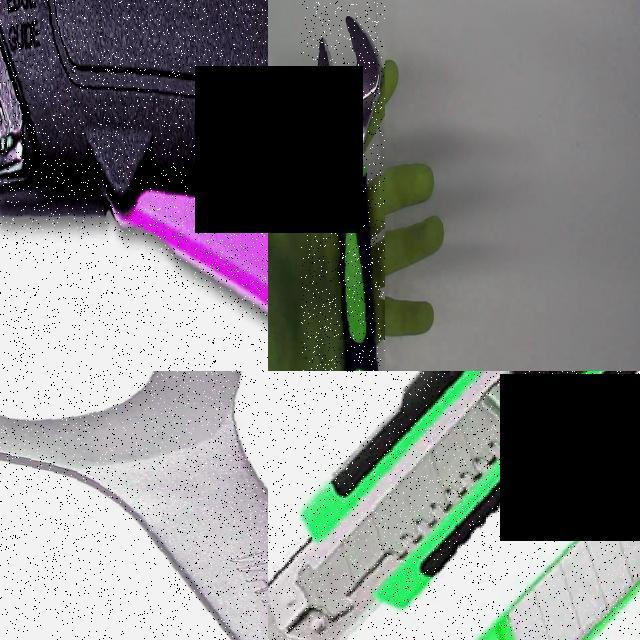estilete: (270, 372, 499, 639)
